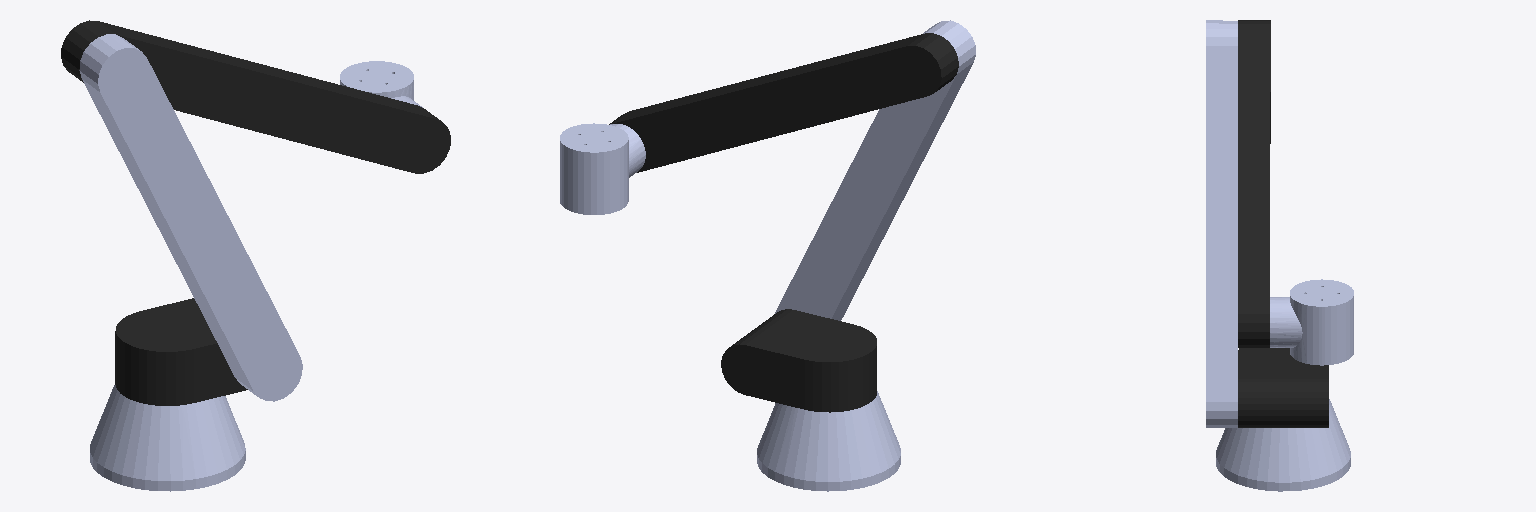
The robot description file, URDF, robot "omron1s":
<?xml version="1.0" ?>
<!-- =================================================================================== -->
<!-- |    This document was autogenerated by xacro from omron1s.xacro                  | -->
<!-- |    EDITING THIS FILE BY HAND IS NOT RECOMMENDED                                 | -->
<!-- =================================================================================== -->
<!-- Revolute-Revolute Manipulator -->
<robot name="omron1s">
  <!-- Base_link -->
  <gazebo reference="base_link">
    <material>Gazebo/White</material>
  </gazebo>
  <!-- Link1 -->
  <gazebo reference="link1">
    <kp>1000000.0</kp>
    <kd>100.0</kd>
    <mu1>30.0</mu1>
    <mu2>30.0</mu2>
    <maxVel>1.0</maxVel>
    <minDepth>0.001</minDepth>
    <material>Gazebo/DarkGrey</material>
  </gazebo>
  <!-- Link2 -->
  <gazebo reference="link2">
    <kp>1000000.0</kp>
    <kd>100.0</kd>
    <mu1>30.0</mu1>
    <mu2>30.0</mu2>
    <maxVel>1.0</maxVel>
    <minDepth>0.001</minDepth>
    <material>Gazebo/White</material>
  </gazebo>
  <!-- Link3 -->
  <gazebo reference="link3">
    <kp>1000000.0</kp>
    <kd>100.0</kd>
    <mu1>30.0</mu1>
    <mu2>30.0</mu2>
    <maxVel>1.0</maxVel>
    <minDepth>0.001</minDepth>
    <material>Gazebo/DarkGrey</material>
  </gazebo>
  <!-- Link4 -->
  <gazebo reference="link4">
    <kp>1000000.0</kp>
    <kd>100.0</kd>
    <mu1>30.0</mu1>
    <mu2>30.0</mu2>
    <maxVel>1.0</maxVel>
    <minDepth>0.001</minDepth>
    <material>Gazebo/White</material>
  </gazebo>
  <!-- Gripper -->
  <gazebo reference="gripper">
    <kp>1000000.0</kp>
    <kd>100.0</kd>
    <mu1>30.0</mu1>
    <mu2>30.0</mu2>
    <maxVel>1.0</maxVel>
    <minDepth>0.001</minDepth>
    <material>Gazebo/DarkGrey</material>
  </gazebo>
  <material name="black">
    <color rgba="0.0 0.0 0.0 1.0"/>
  </material>
  <material name="blue">
    <color rgba="0.0 0.0 0.8 1.0"/>
  </material>
  <material name="green">
    <color rgba="0.0 0.8 0.0 1.0"/>
  </material>
  <material name="grey">
    <color rgba="0.2 0.2 0.2 1.0"/>
  </material>
  <material name="orange">
    <color rgba="1.0 0.4235294117647059 0.0392156862745098 1.0"/>
  </material>
  <material name="brown">
    <color rgba="0.8705882352941177 0.8117647058823529 0.7647058823529411 1.0"/>
  </material>
  <material name="red">
    <color rgba="0.8 0.0 0.0 1.0"/>
  </material>
  <material name="white">
    <color rgba="1.0 1.0 1.0 1.0"/>
  </material>
  <!-- Used for fixing robot to Gazebo 'base_link' -->
  <link name="world"/>
  <!-- <joint name="fixed" type="fixed">
    <parent link="world"/>
    <child link="base_link"/>
  </joint> -->
  <joint name="fixed" type="fixed">
    <origin rpy="0 0 1.3326126" xyz="-0.097 -0.037 0.0"/>
    <parent link="world"/>
    <child link="base_link"/>
  </joint>
  <!-- <joint
    name="fixed"
    type="fixed">
    <origin
      xyz="0.059 -0.085 0.052"
      rpy="0 0 -1.3326126" />
    <parent
      link="world" />
    <child
      link="base_link" />
  </joint> -->
  <link name="base_link">
    <inertial>
      <origin rpy="0 0 0" xyz="0 0 0"/>
      <mass value="0.71125"/>
      <inertia ixx="0.0032491" ixy="1.0152E-21" ixz="2.3749E-22" iyy="0.0048171" iyz="7.6509E-19" izz="0.0032491"/>
    </inertial>
    <visual>
      <origin rpy="0 0 0" xyz="0 0 0"/>
      <geometry>
        <mesh filename="package://omron1s_description/meshes/base_link.STL"/>
      </geometry>
      <material name="">
        <color rgba="0.79216 0.81961 0.93333 1"/>
      </material>
    </visual>
    <collision>
      <origin rpy="0 0 0" xyz="0 0 0"/>
      <geometry>
        <mesh filename="package://omron1s_description/meshes/base_link.STL"/>
      </geometry>
    </collision>
  </link>
  <link name="link1">
    <inertial>
      <origin rpy="0 0 0" xyz="-2.7756E-17 0.04 -0.037778"/>
      <mass value="2.0876"/>
      <inertia ixx="0.0074287" ixy="-4.9804E-20" ixz="-4.391E-18" iyy="0.0095206" iyz="1.2084E-19" izz="0.0042248"/>
    </inertial>
    <visual>
      <origin rpy="0 0 0" xyz="0 0 0"/>
      <geometry>
        <mesh filename="package://omron1s_description/meshes/link1.STL"/>
      </geometry>
      <material name="">
        <color rgba="0.2 0.2 0.2 1.0"/>
      </material>
    </visual>
    <collision>
      <origin rpy="0 0 0" xyz="0 0 0"/>
      <geometry>
        <mesh filename="package://omron1s_description/meshes/link1.STL"/>
      </geometry>
    </collision>
  </link>
  <joint name="joint1" type="revolute">
    <origin rpy="1.5708 0 -2.9046" xyz="0.058756 -0.084662 0.15198"/>
    <parent link="base_link"/>
    <child link="link1"/>
    <axis xyz="0 1 0"/>
    <limit effort="500" lower="-6.28" upper="6.28" velocity="6.28"/>
    <dynamics damping="200" friction="50"/>
  </joint>
  <link name="link2">
    <inertial>
      <origin rpy="0 0 0" xyz="-0.022244 -3.8858E-16 0.275"/>
      <mass value="2.4513"/>
      <inertia ixx="0.078186" ixy="-1.7347E-18" ixz="-3.5521E-17" iyy="0.077423" iyz="1.0148E-16" izz="0.0017846"/>
    </inertial>
    <visual>
      <origin rpy="0 0 0" xyz="0 0 0"/>
      <geometry>
        <mesh filename="package://omron1s_description/meshes/link2.STL"/>
      </geometry>
      <material name="">
        <color rgba="0.79216 0.81961 0.93333 1"/>
      </material>
    </visual>
    <collision>
      <origin rpy="0 0 0" xyz="0 0 0"/>
      <geometry>
        <mesh filename="package://omron1s_description/meshes/link2.STL"/>
      </geometry>
    </collision>
  </link>
  <joint name="joint2" type="revolute">
    <origin rpy="1.1256 0 3.1416" xyz="0.072756 0.04 -0.1"/>
    <parent link="link1"/>
    <child link="link2"/>
    <axis xyz="1 0 0"/>
    <limit effort="500" lower="-1.0821" upper="2.0071" velocity="6.28"/>
    <dynamics damping="200" friction="50"/>
  </joint>
  <link name="link3">
    <inertial>
      <origin rpy="0 0 0" xyz="0.027756 8.8818E-16 0.275"/>
      <mass value="2.4513"/>
      <inertia ixx="0.078186" ixy="-4.3368E-19" ixz="-2.1467E-17" iyy="0.077423" iyz="5.9902E-17" izz="0.0017846"/>
    </inertial>
    <visual>
      <origin rpy="0 0 0" xyz="0 0 0"/>
      <geometry>
        <mesh filename="package://omron1s_description/meshes/link3.STL"/>
      </geometry>
      <material name="">
        <color rgba="0.2 0.2 0.2 1.0"/>
      </material>
    </visual>
    <collision>
      <origin rpy="0 0 0" xyz="0 0 0"/>
      <geometry>
        <mesh filename="package://omron1s_description/meshes/link3.STL"/>
      </geometry>
    </collision>
  </link>
  <joint name="joint3" type="revolute">
    <origin rpy="2.4678 0 0" xyz="0 0 0.55"/>
    <parent link="link2"/>
    <child link="link3"/>
    <axis xyz="1 0 0"/>
    <limit effort="500" lower="-2.45777265" upper="0.2269" velocity="6.28"/>
    <dynamics damping="200" friction="50"/>
  </joint>
  <link name="link4">
    <inertial>
      <origin rpy="0 0 0" xyz="0.01137 -1.4733E-08 2.4175E-08"/>
      <mass value="0.95052"/>
      <inertia ixx="0.001281" ixy="8.7095E-10" ixz="-2.2716E-09" iyy="0.0016268" iyz="-9.4098E-10" izz="0.0017739"/>
    </inertial>
    <visual>
      <origin rpy="0 0 0" xyz="0 0 0"/>
      <geometry>
        <mesh filename="package://omron1s_description/meshes/link4.STL"/>
      </geometry>
      <material name="">
        <color rgba="0.79216 0.81961 0.93333 1"/>
      </material>
    </visual>
    <collision>
      <origin rpy="0 0 0" xyz="0 0 0"/>
      <geometry>
        <mesh filename="package://omron1s_description/meshes/link4.STL"/>
      </geometry>
    </collision>
  </link>
  <joint name="joint4" type="revolute">
    <origin rpy="0.45181 0 -3.1416" xyz="0.13276 0 0.55"/>
    <parent link="link3"/>
    <child link="link4"/>
    <axis xyz="-1 0 0"/>
    <limit effort="500" lower="-6.28" upper="6.28" velocity="6.28"/>
    <dynamics damping="200" friction="50"/>
  </joint>

  <!-- ROS2 CONTROL-->
  <ros2_control name="Omron1SControl" type="system">
    <!-- <hardware>
      <plugin>omron1s_hardware/Omron1SHardware</plugin>
      <param name="interface_name">enp2s0</param>
      <param name="use_dummy">false</param>
    </hardware> -->
    <hardware>
      <plugin>gazebo_ros2_control/GazeboSystem</plugin>
    </hardware>
    <joint name="joint1">
      <param name="id">1</param>
      <command_interface name="position">
        <param name="min">-3.14</param>
        <param name="max">3.14</param>
      </command_interface>
      <state_interface name="position"/>
      <state_interface name="velocity"/>
      <state_interface name="effort"/>
    </joint>
    <joint name="joint2">
      <param name="id">2</param>
      <command_interface name="position">
        <param name="min">-3.14</param>
        <param name="max">3.14</param>
      </command_interface>
      <state_interface name="position"/>
      <state_interface name="velocity"/>
      <state_interface name="effort"/>
    </joint>
    <joint name="joint3">
      <param name="id">3</param>
      <command_interface name="position">
        <param name="min">-3.14</param>
        <param name="max">3.14</param>
      </command_interface>
      <state_interface name="position"/>
      <state_interface name="velocity"/>
      <state_interface name="effort"/>
    </joint>
    <joint name="joint4">
      <param name="id">4</param>
      <command_interface name="position">
        <param name="min">-3.14</param>
        <param name="max">3.14</param>
      </command_interface>
      <state_interface name="position"/>
      <state_interface name="velocity"/>
      <state_interface name="effort"/>
    </joint>
  </ros2_control>
  <gazebo>
    <plugin filename="libgazebo_ros2_control.so" name="gazebo_ros2_control">
      <!--<robot_sim_type>gazebo_ros2_control/DefaultRobotHWSim</robot_sim_type> -->
      <!-- <robot_sim_type>gazebo_ros2_control/GazeboSystem</robot_sim_type> -->
      <robot_sim_type>gazebo_ros2_control/GazeboSystem</robot_sim_type>
      <parameters>/omron1s_hwi/share/omron1s_hwi/config/controller_configuration.yaml</parameters>
    </plugin>
  </gazebo>
  <!-- TRANSMISSION -->
  <!-- Transmission 1 -->
  <transmission name="tran1">
    <type>transmission_interface/SimpleTransmission</type>
    <joint name="joint1">
      <hardwareInterface>hardware_interface/PositionJointInterface</hardwareInterface>
    </joint>
    <actuator name="motor1">
      <hardwareInterface>hardware_interface/PositionJointInterface</hardwareInterface>
      <mechanicalReduction>1</mechanicalReduction>
    </actuator>
  </transmission>
  <!-- Transmission 2 -->
  <transmission name="tran2">
    <type>transmission_interface/SimpleTransmission</type>
    <joint name="joint2">
      <hardwareInterface>hardware_interface/PositionJointInterface</hardwareInterface>
    </joint>
    <actuator name="motor2">
      <hardwareInterface>hardware_interface/PositionJointInterface</hardwareInterface>
      <mechanicalReduction>1</mechanicalReduction>
    </actuator>
  </transmission>
  <!-- Transmission 3 -->
  <transmission name="tran3">
    <type>transmission_interface/SimpleTransmission</type>
    <joint name="joint3">
      <hardwareInterface>hardware_interface/PositionJointInterface</hardwareInterface>
    </joint>
    <actuator name="motor3">
      <hardwareInterface>hardware_interface/PositionJointInterface</hardwareInterface>
      <mechanicalReduction>1</mechanicalReduction>
    </actuator>
  </transmission>
  <!-- Transmission 4 -->
  <transmission name="tran4">
    <type>transmission_interface/SimpleTransmission</type>
    <joint name="joint4">
      <hardwareInterface>hardware_interface/PositionJointInterface</hardwareInterface>
    </joint>
    <actuator name="motor4">
      <hardwareInterface>hardware_interface/PositionJointInterface</hardwareInterface>
      <mechanicalReduction>1</mechanicalReduction>
    </actuator>
  </transmission>
</robot>

--- What the picture shows (computed from the rendered views, not written in the file) ---
3 views of the same robot in one strip: view 1: azimuth 30°, elevation 25°; view 2: azimuth 150°, elevation 25°; view 3: azimuth 270°, elevation 25° (orthographic).
Robot: omron1s — 6 links, 5 joints (4 revolute, 1 fixed); root link world; default pose: all joints at 0.
Links seen in each view (by area): view 1: link2, link3, base_link, link1, link4; view 2: link3, link2, link1, base_link, link4; view 3: link2, link3, base_link, link1, link4.
Boxes of the visible links, <box> form: link2: <box>79,34,302,401</box>; link3: <box>61,20,450,173</box>; base_link: <box>90,385,245,491</box>; link1: <box>115,298,247,405</box>; link4: <box>340,61,422,107</box>; link3: <box>609,33,958,172</box>; link2: <box>775,20,975,320</box>; link1: <box>721,309,876,412</box>; base_link: <box>757,391,900,491</box>; link4: <box>560,123,645,214</box>; link2: <box>1206,20,1237,427</box>; link3: <box>1238,20,1270,347</box>; base_link: <box>1216,399,1350,491</box>; link1: <box>1238,348,1328,427</box>; link4: <box>1270,279,1353,365</box>.
Bounding box of the posed robot: 0.5849 × 0.2297 × 0.6863 m (x, y, z).
Meshes: 5 distinct files referenced, 5 mesh visuals loaded (5 binary STL).